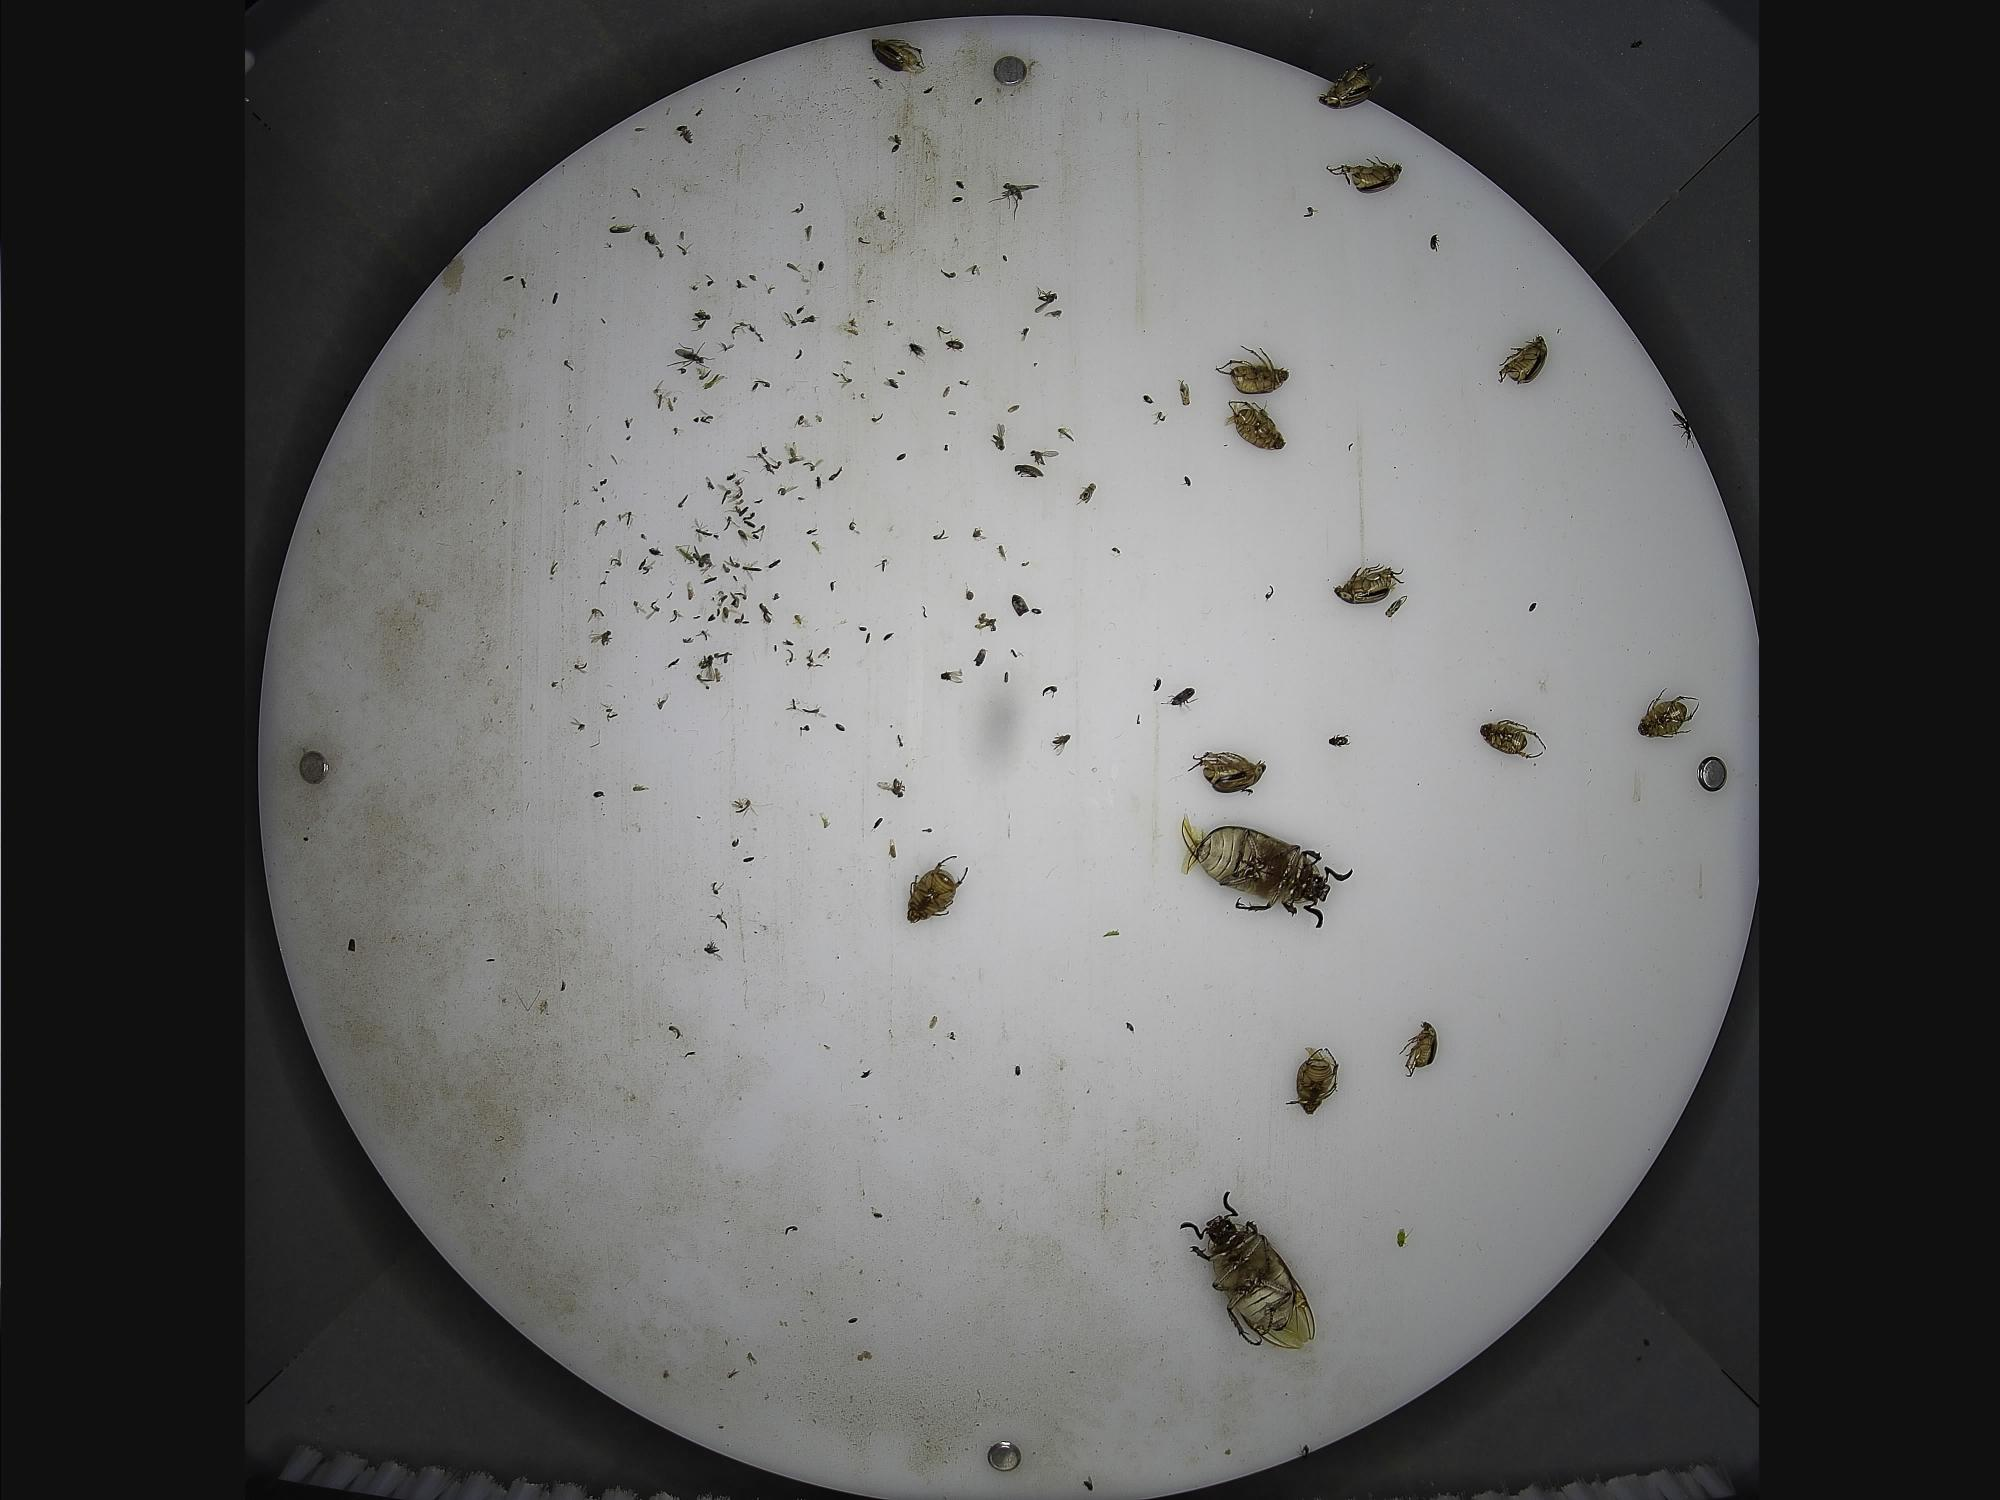Tiny fly: (986, 181, 1041, 222), (661, 339, 718, 372), (1030, 284, 1060, 315), (899, 334, 929, 366), (1381, 591, 1411, 621), (874, 774, 909, 799), (1071, 479, 1098, 507), (1009, 462, 1047, 481), (1175, 375, 1195, 408), (1050, 731, 1076, 758), (701, 937, 728, 963), (987, 421, 1008, 452), (800, 700, 831, 720), (586, 626, 614, 648), (1027, 449, 1060, 466), (939, 666, 967, 685), (1055, 422, 1077, 444), (655, 692, 669, 712), (887, 835, 898, 860), (704, 474, 717, 493)
beetle: (1159, 687, 1200, 711), (1324, 731, 1356, 750), (943, 336, 969, 355), (1427, 230, 1441, 255)
insect: (1170, 1188, 1321, 1357), (1173, 805, 1356, 934), (904, 852, 973, 928), (1183, 745, 1272, 799), (1282, 1043, 1343, 1120), (1209, 343, 1291, 397), (1635, 684, 1702, 744), (1220, 399, 1291, 455), (1312, 60, 1386, 113), (1321, 153, 1408, 195), (1493, 329, 1551, 388), (1477, 718, 1551, 764), (1331, 561, 1406, 605), (1394, 1013, 1441, 1081), (869, 36, 931, 77)
skeeter: (726, 796, 776, 822)
